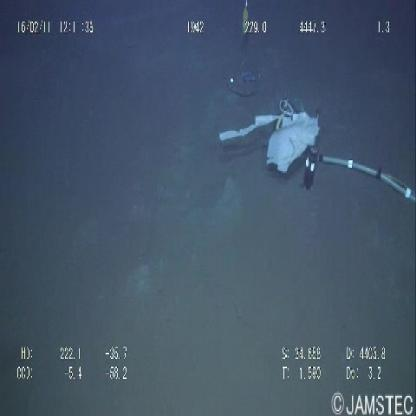Rác: (216, 103, 323, 170)
